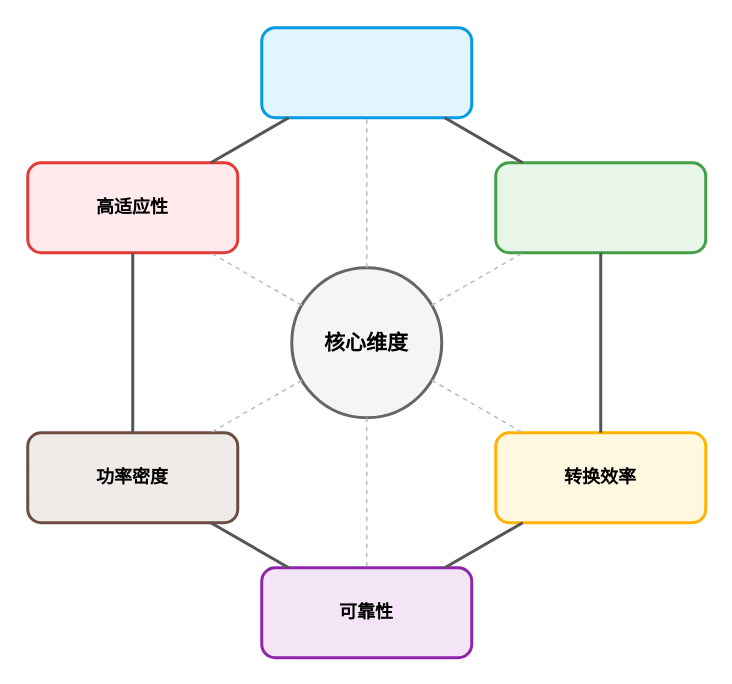
This 732x684 diagram has some shape labels left out. Each missing label, with the centre of its shape:
"智能化" belongs at [366,72].
"高易用性" belongs at [600,207].
